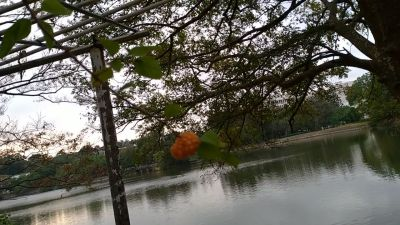eggs: (171, 131, 199, 160)
